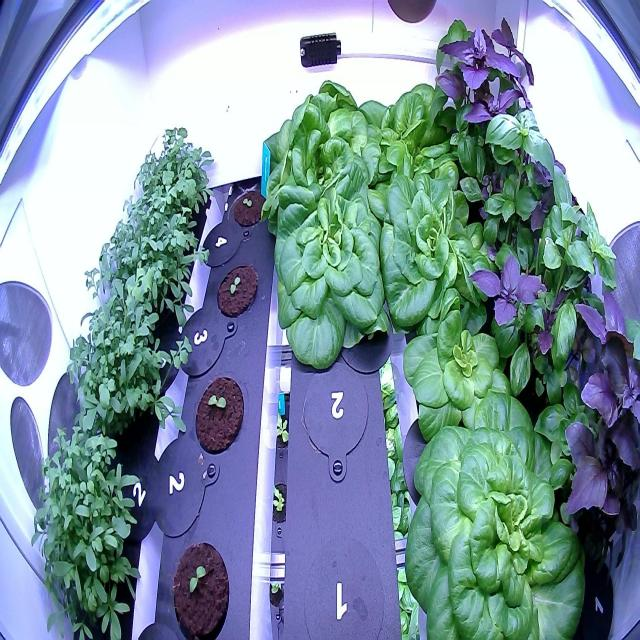Ready: (400, 386, 590, 639), (266, 162, 396, 378), (374, 164, 505, 341), (257, 67, 375, 226), (356, 73, 460, 218)
empty_pod: (290, 523, 392, 639), (294, 354, 378, 484)
germination: (168, 531, 234, 640), (194, 367, 246, 463), (214, 256, 262, 328), (228, 180, 270, 236)
young: (398, 278, 534, 448)
